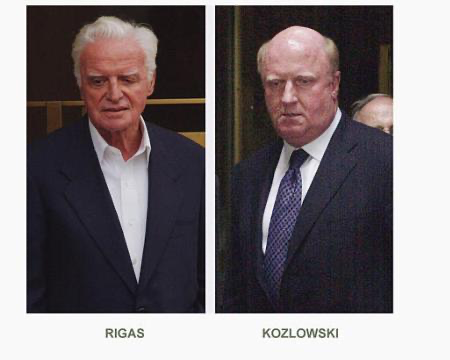Face: (81, 47, 148, 137), (262, 61, 338, 140)
